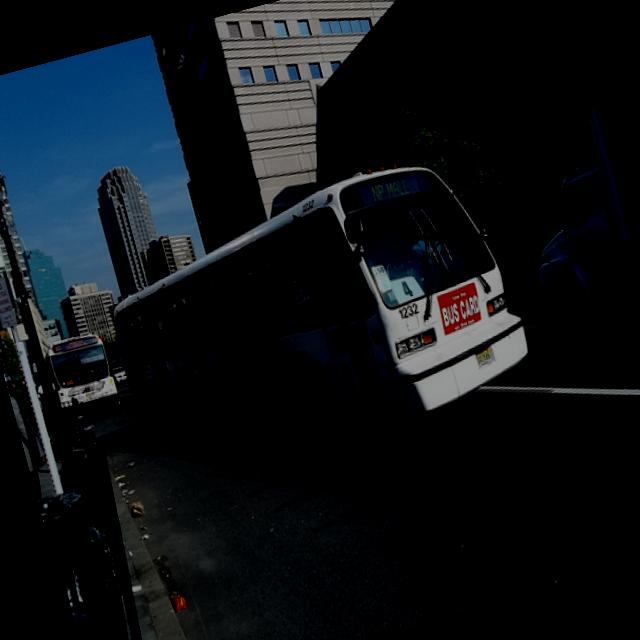Vehicle: (89, 139, 548, 505), (483, 80, 640, 344), (40, 329, 123, 425), (109, 357, 128, 385)
